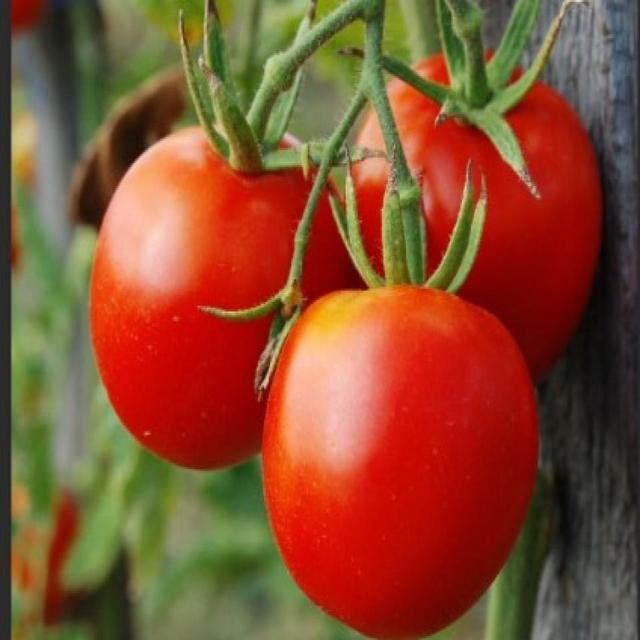Healthy Fruit: (137, 136, 310, 309)
